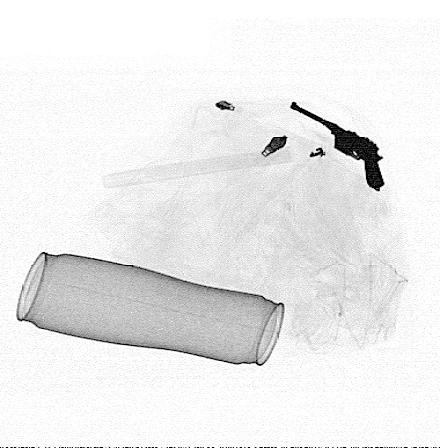Gun: (288, 101, 386, 190)
